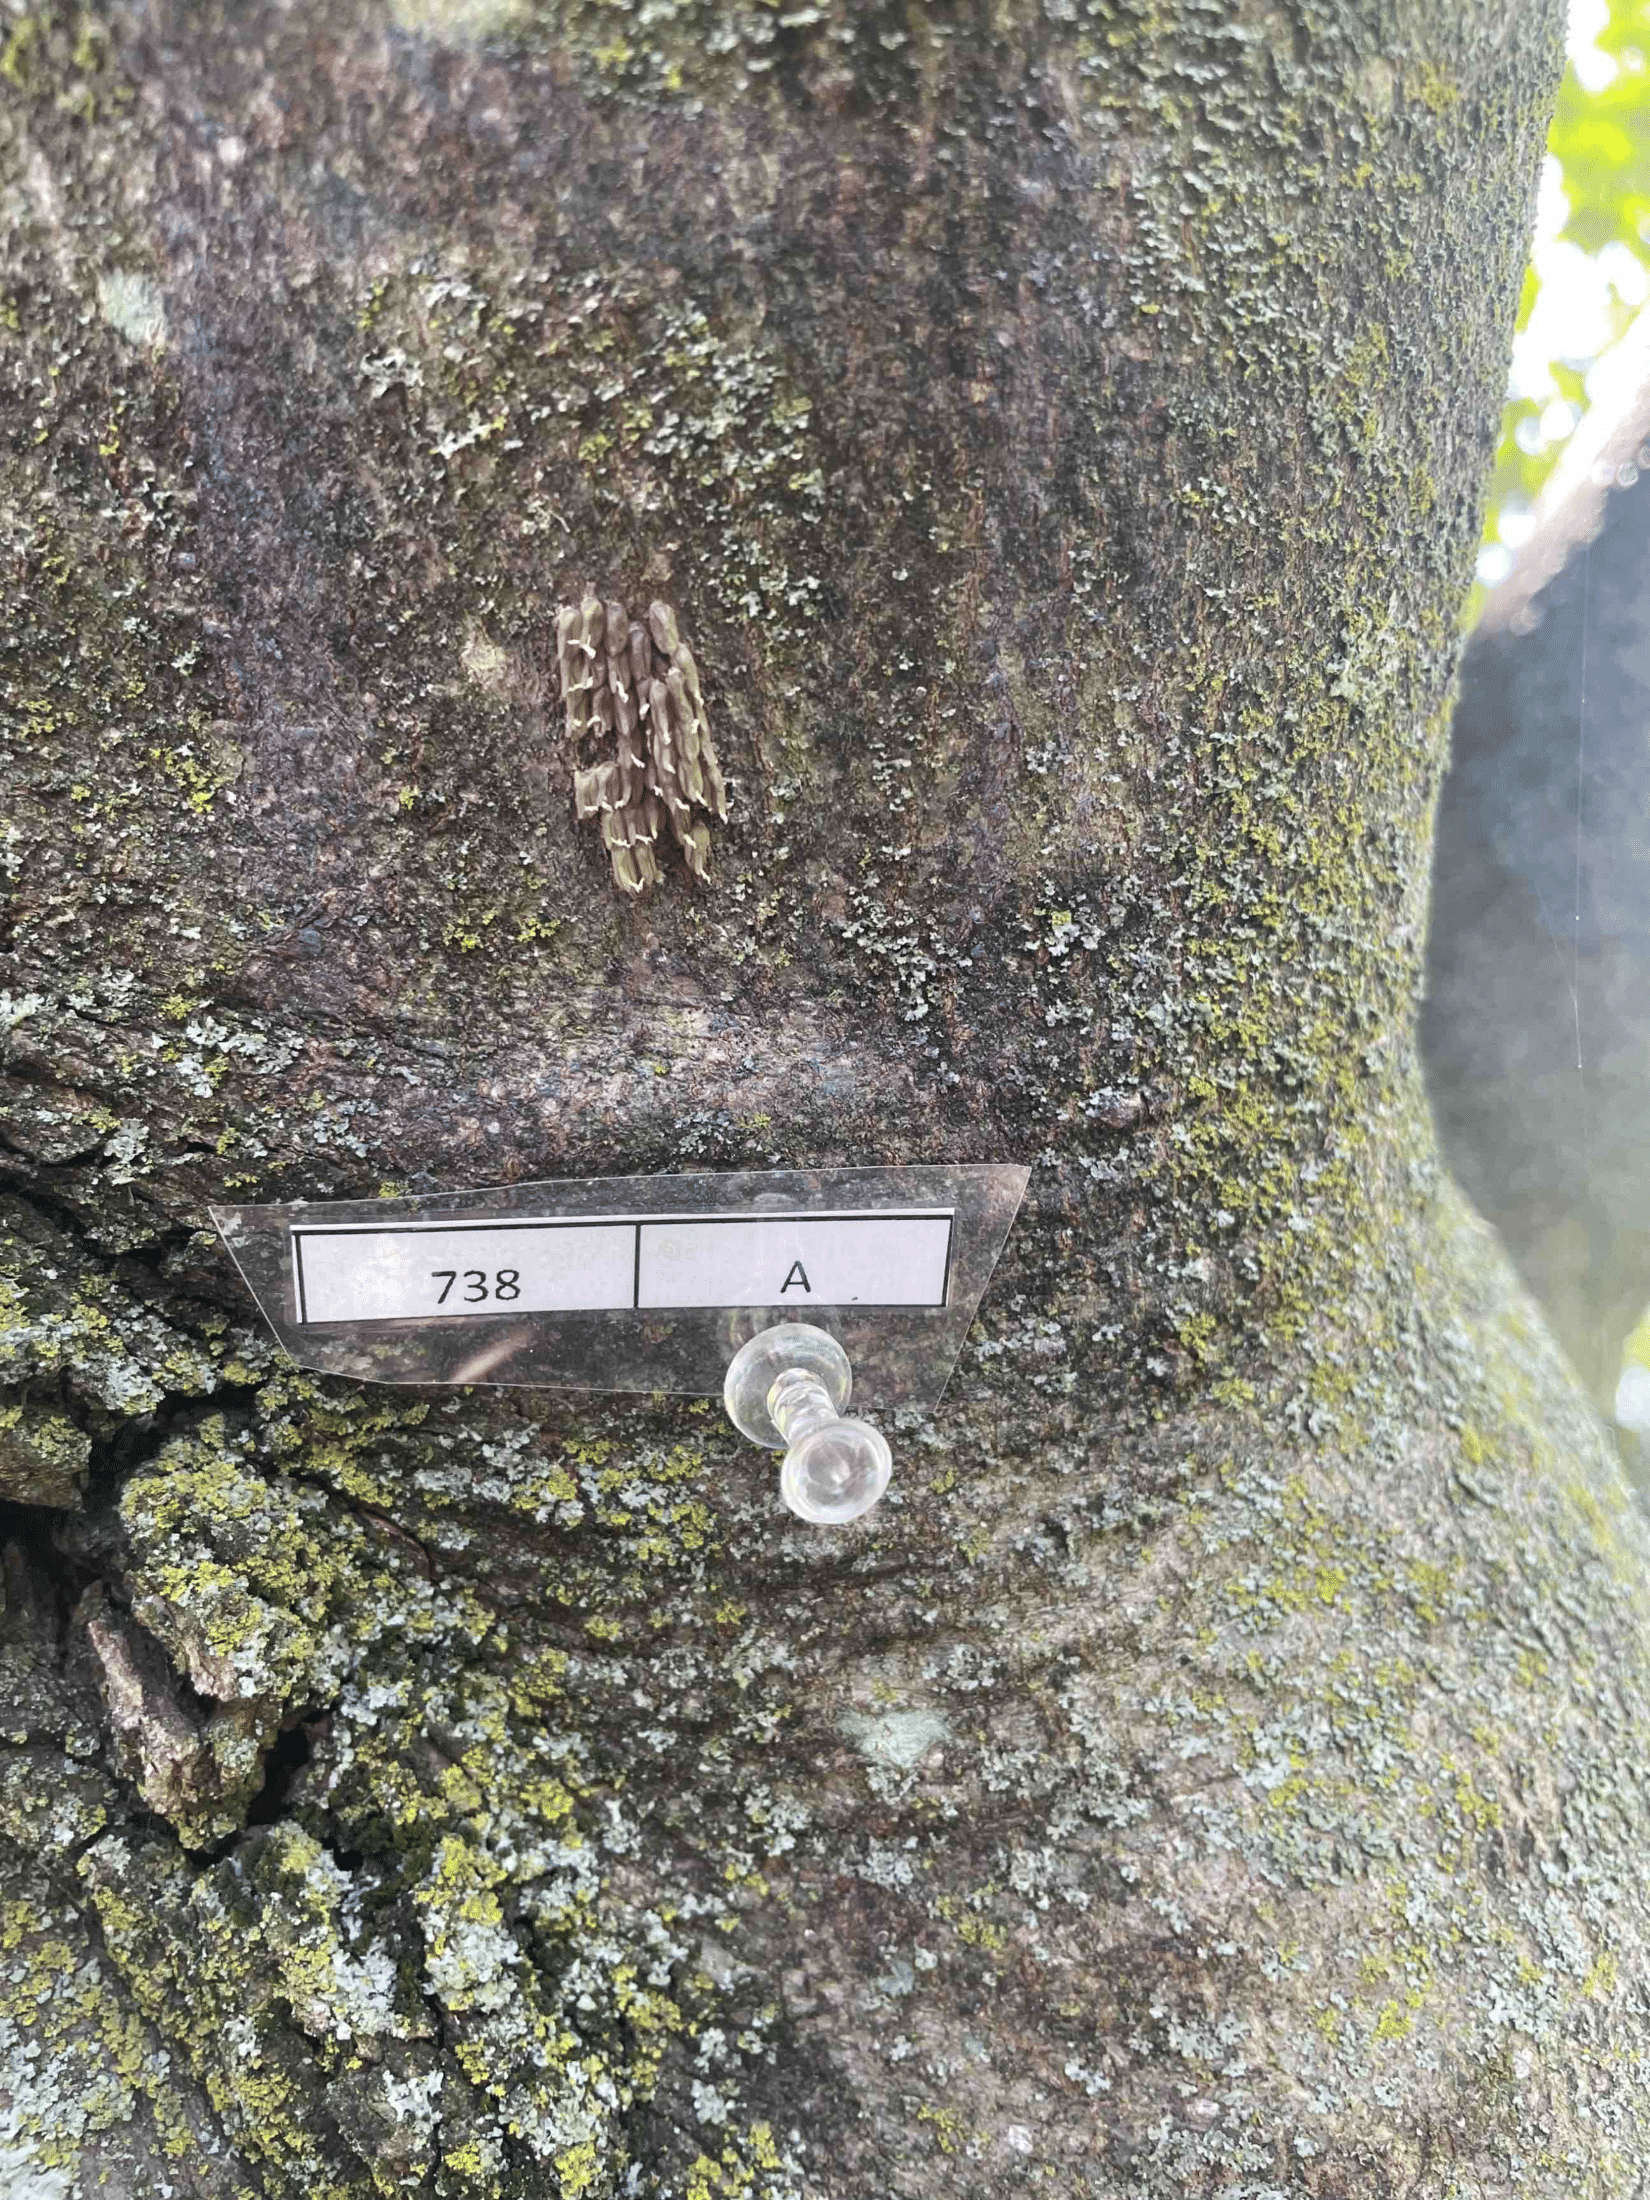egg masses: (548, 584, 730, 883)
